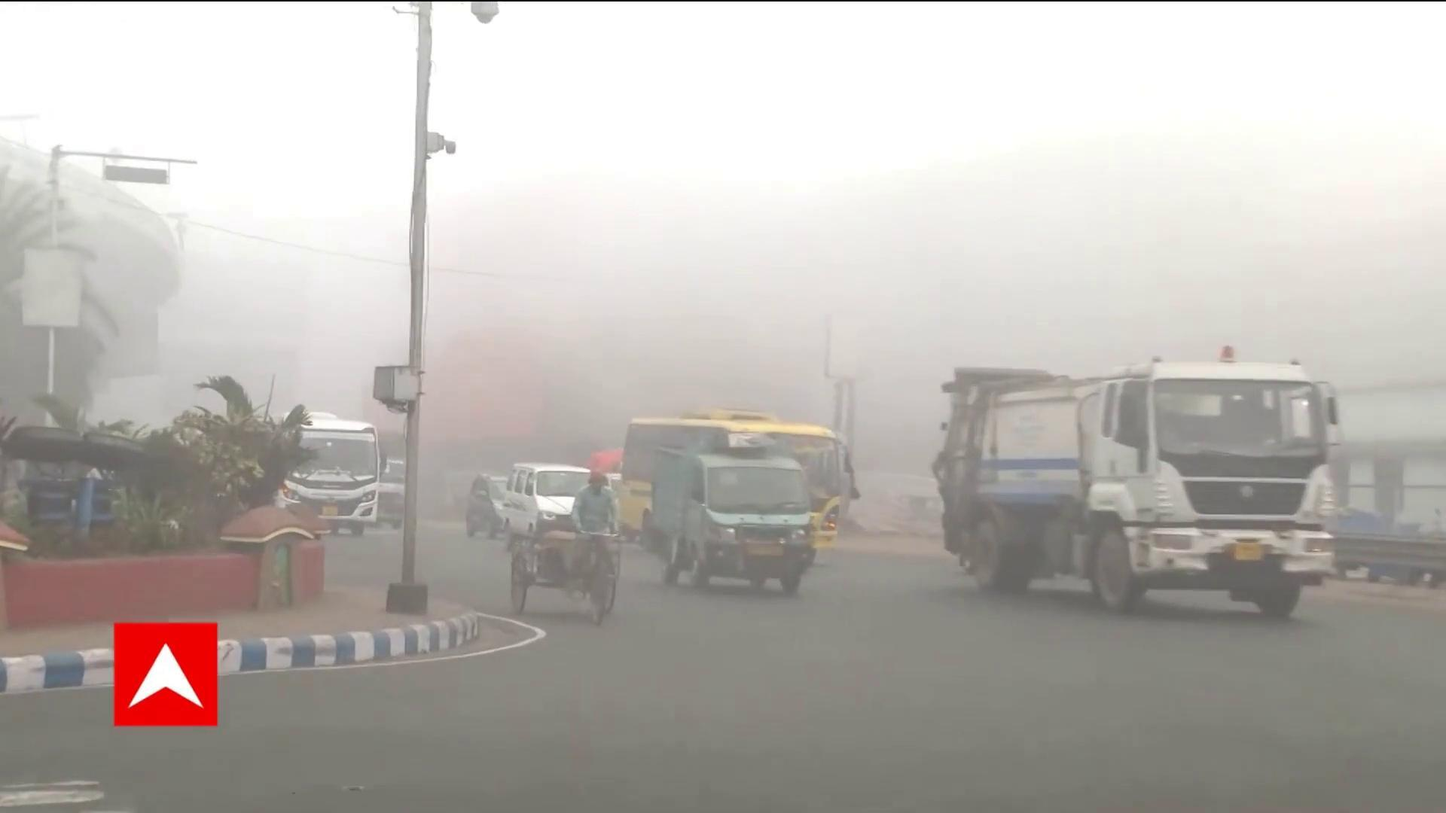Car: (499, 458, 613, 543)
Truck: (943, 347, 1337, 613), (641, 431, 816, 585)
